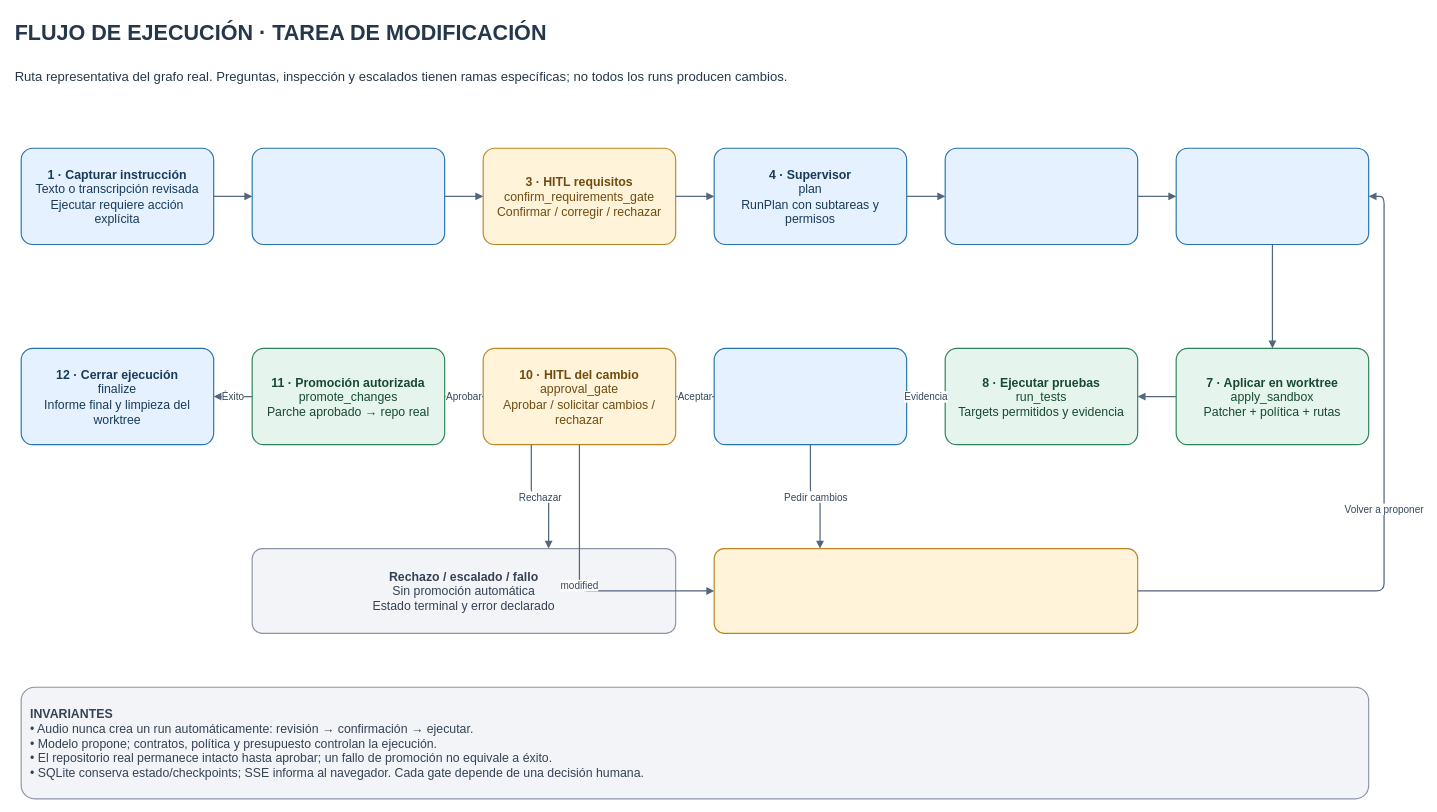
This 1437x812 diagram has some shape labels left out. Here are the shapes that lost their labels. From the top down, the centre of each, then its label:
At (348,196): "2 · Requirements Analyst interpret TaskInterpretation + alcance".
At (1041,196): "5 · Researcher researcher Investigación determinista".
At (1272,196): "6 · Coder coder CodeProposal → diff y metadatos".
At (810,396): "9 · Reviewer reviewer ReviewVerdict sobre diff y tests".
At (925,591): "Ciclo de corrección Feedback de Reviewer / humano Reintento limitado por Budget".
